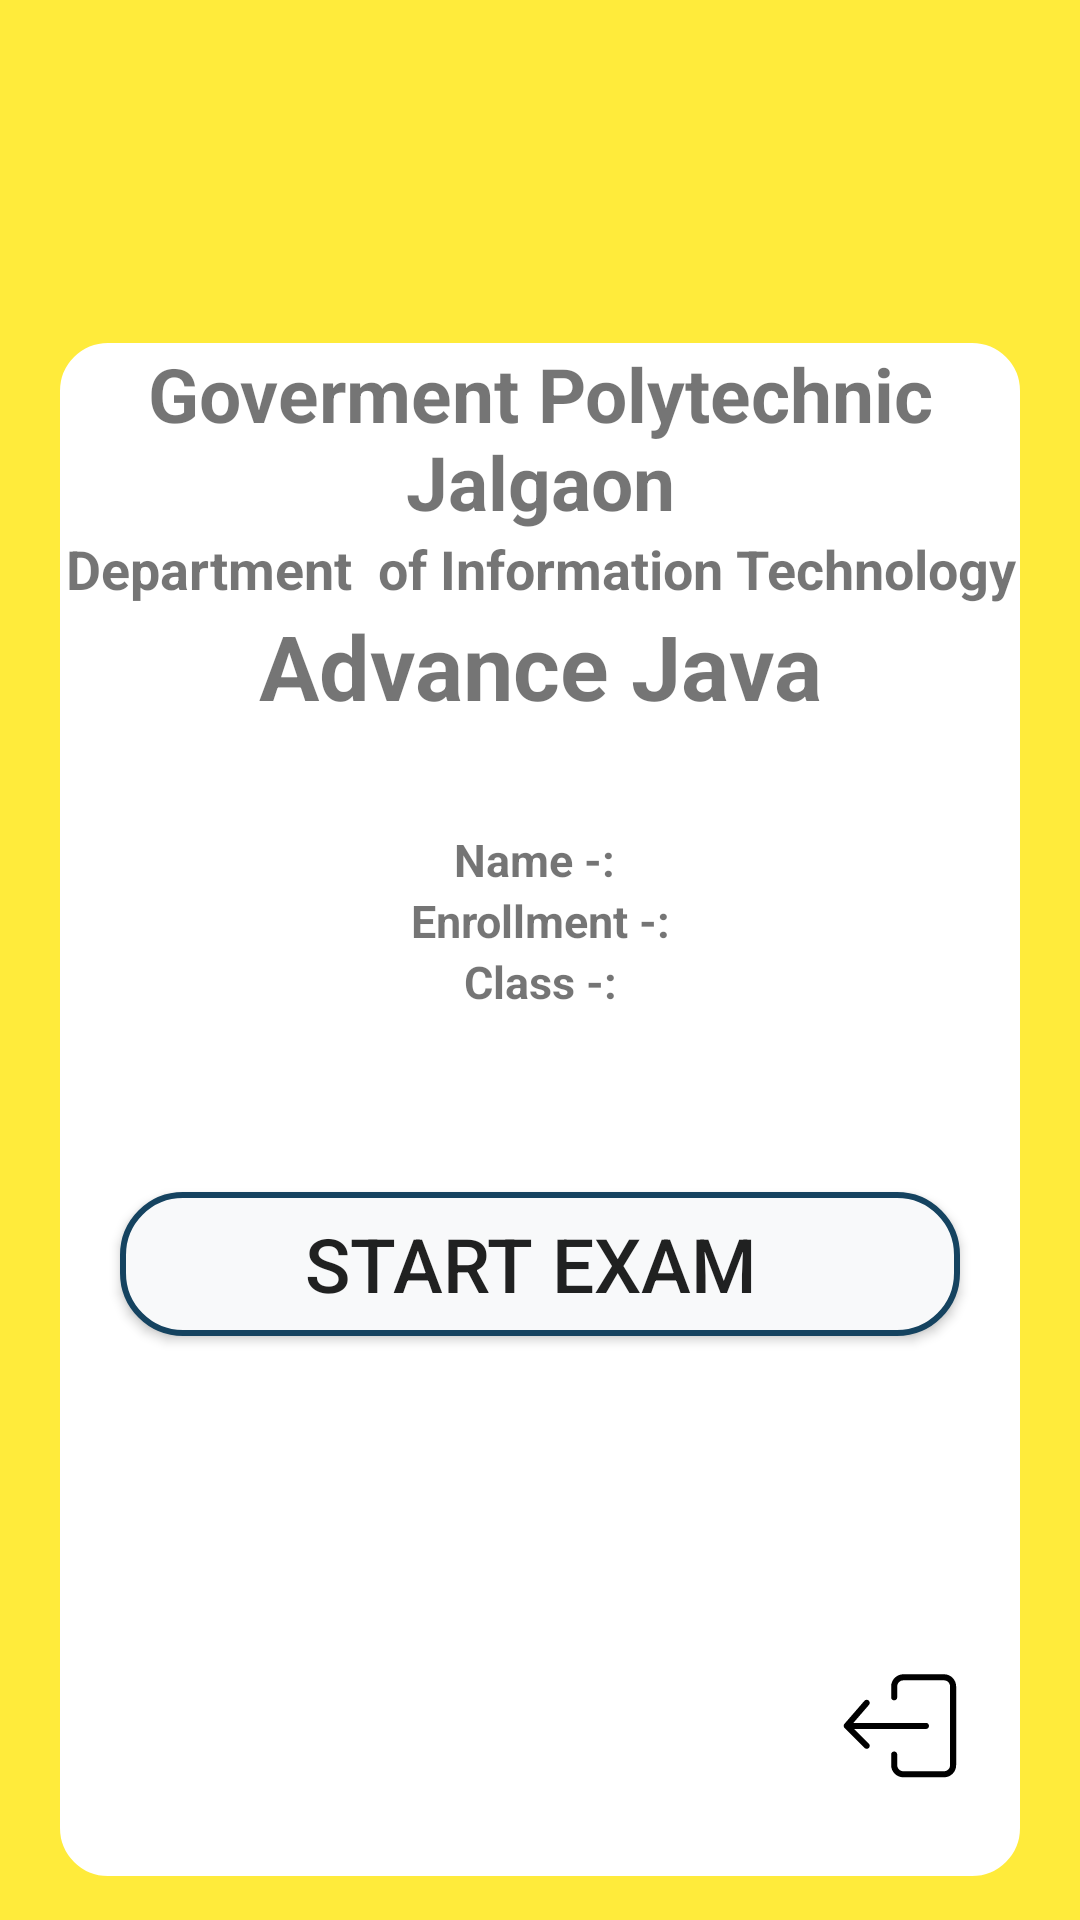

Icons on this 1080*1920 Android screen, each with the point to tap as point (x, y):
log out: point (900, 1726)
